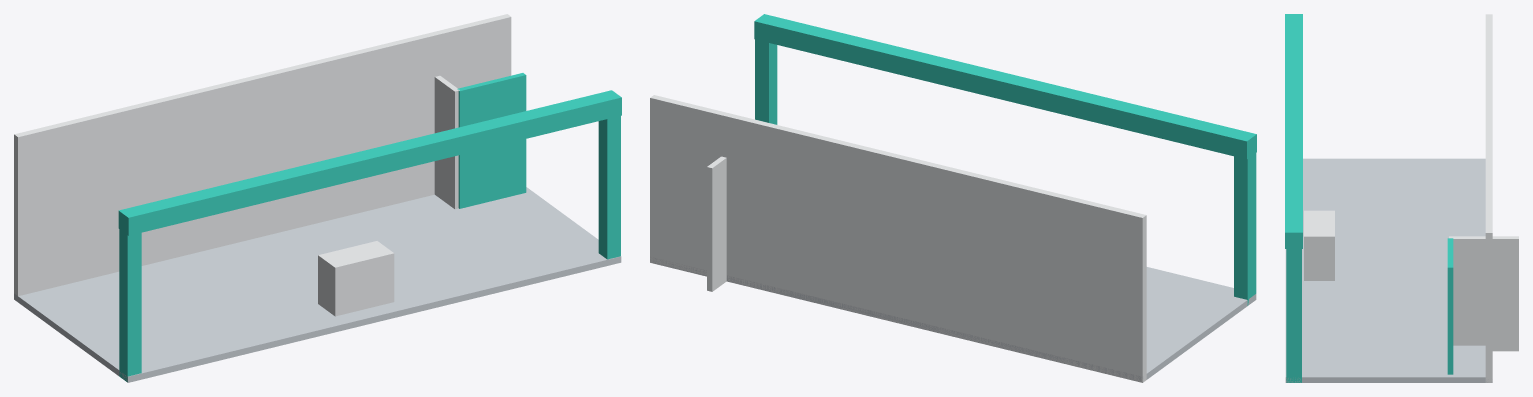
3 views of the same model, side by side, from view 1: azimuth 30°, elevation 25°; view 2: azimuth 150°, elevation 25°; view 3: azimuth 270°, elevation 25° (orthographic). The views are drawn at different scales.
Visible parts, largest first — view 1: Exhibition Booth Concept; view 2: Exhibition Booth Concept; view 3: Exhibition Booth Concept.
Part boxes in pixels (left/top/right/bottom): Exhibition Booth Concept: left=14, top=14, right=621, bottom=382; Exhibition Booth Concept: left=650, top=14, right=1256, bottom=382; Exhibition Booth Concept: left=1285, top=14, right=1518, bottom=382.
Size of the model in its own units: 10 by 3.2 by 4.52.
